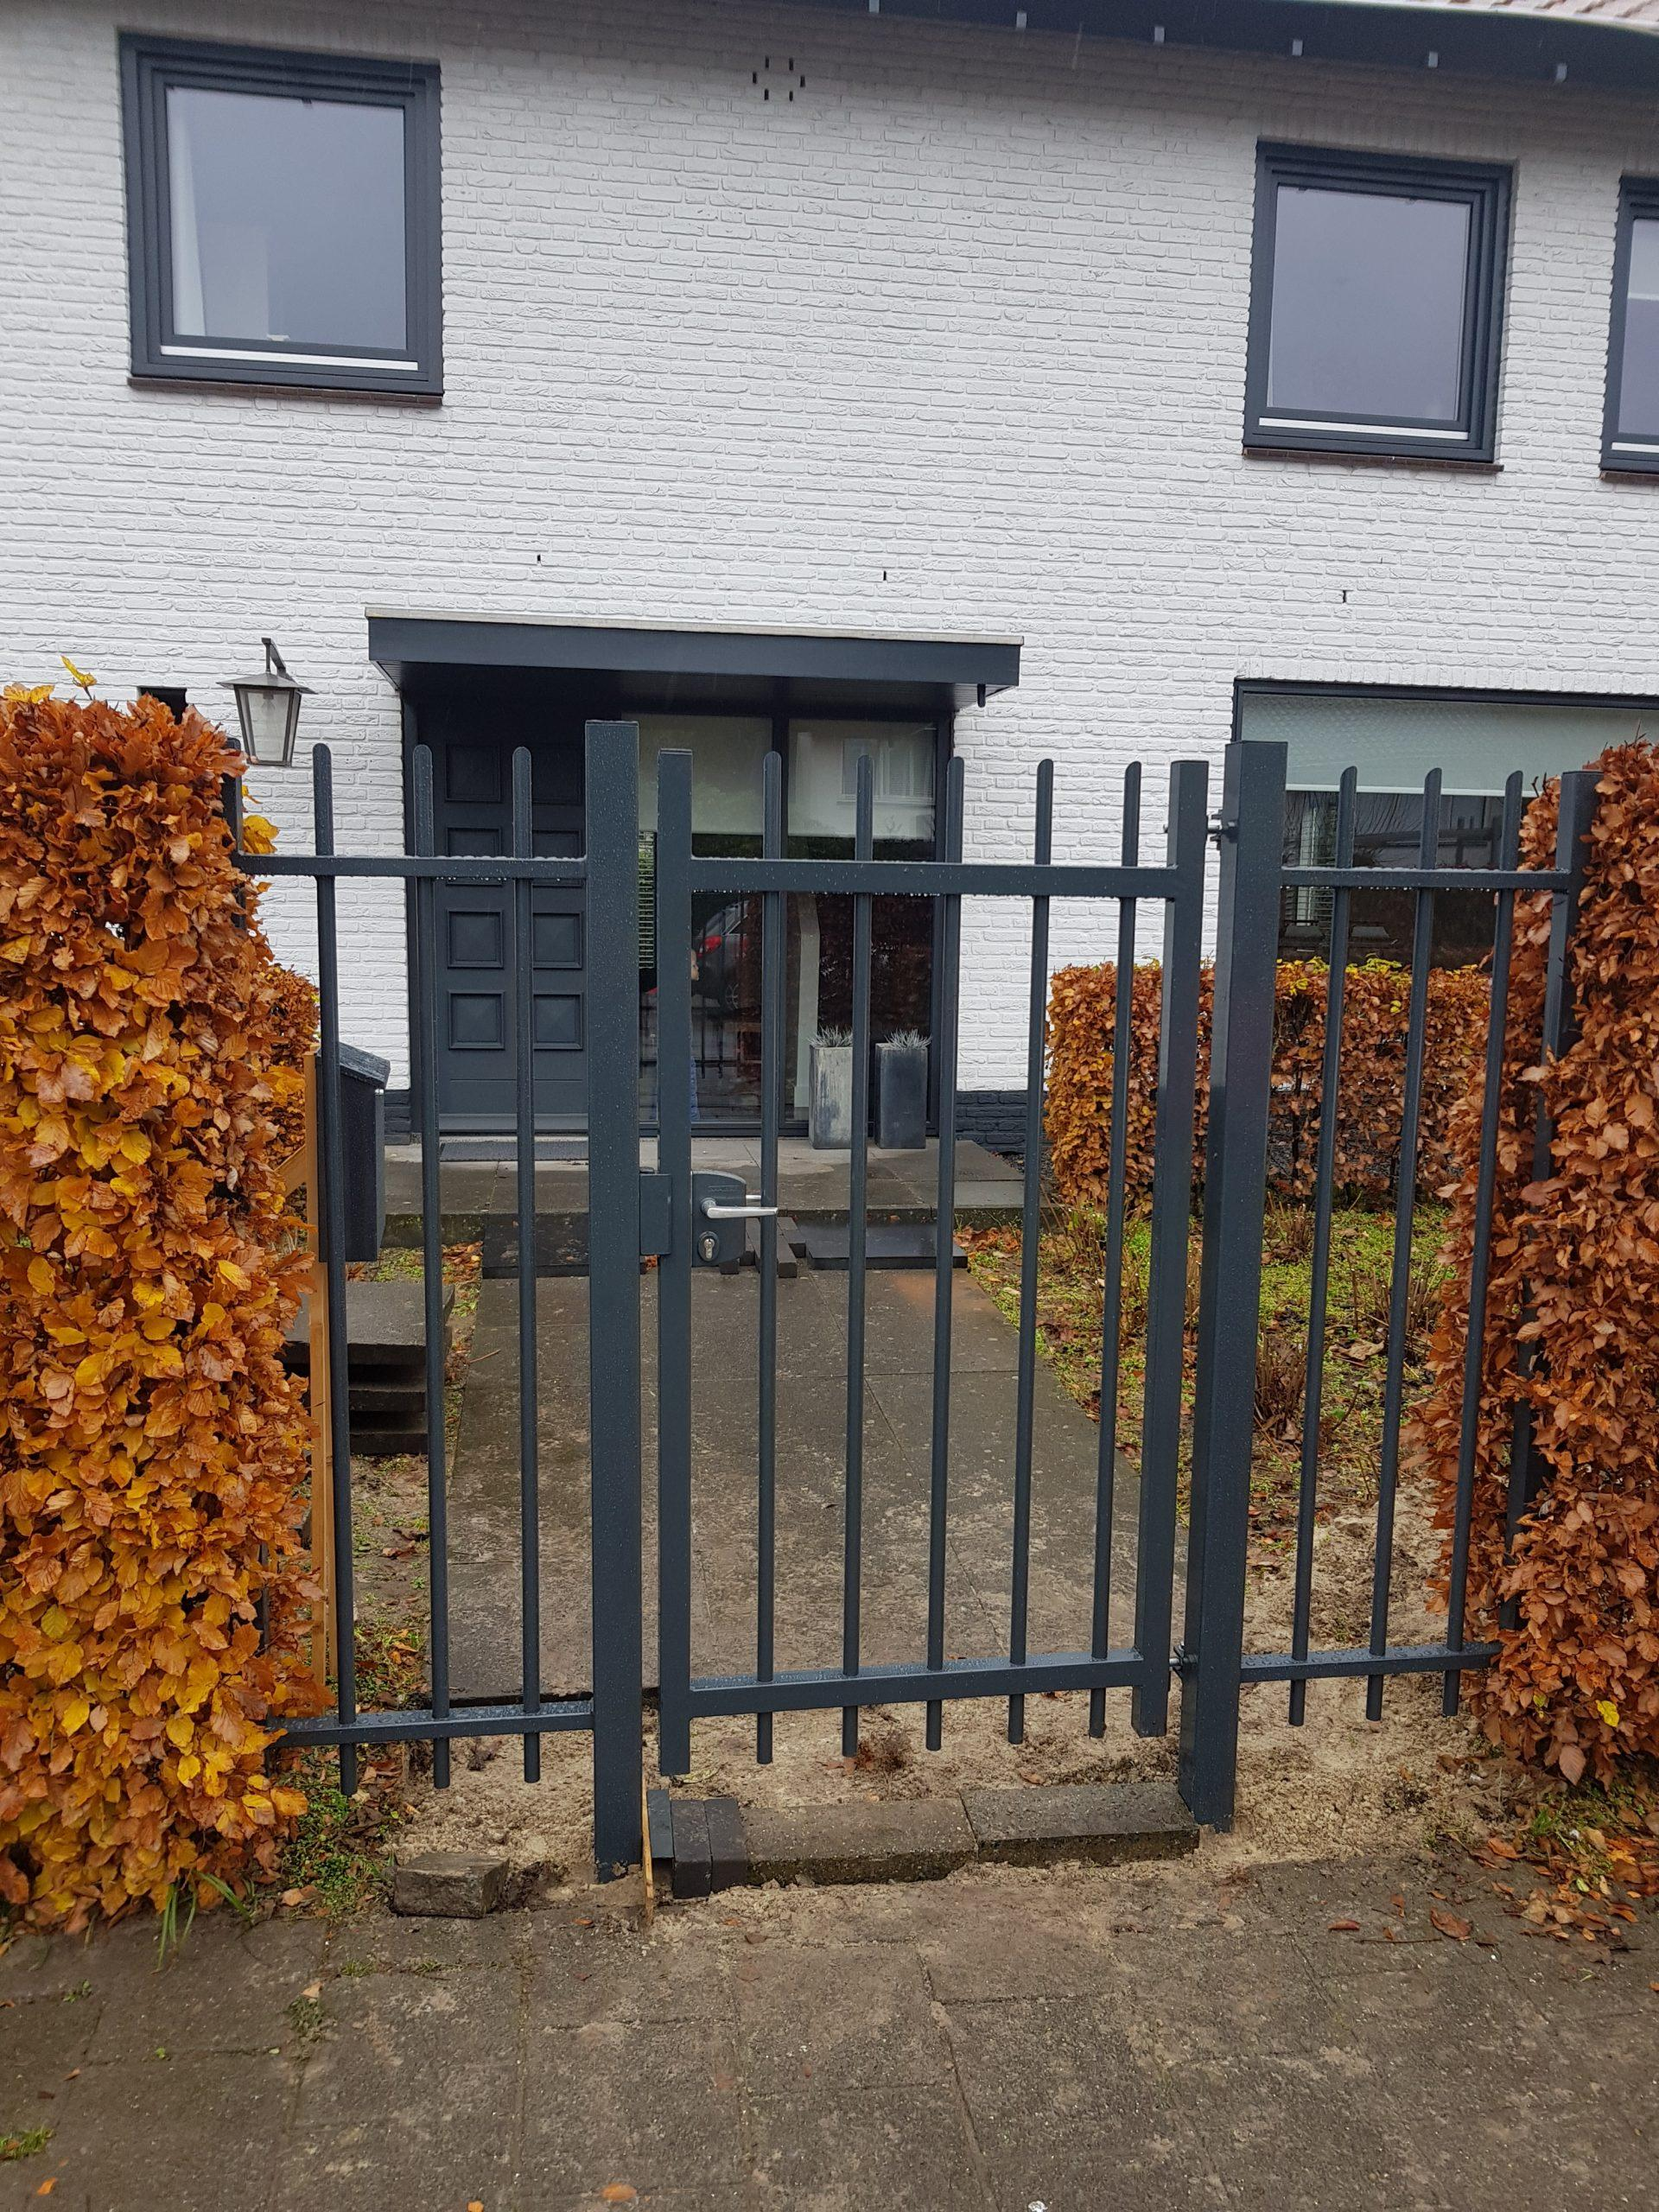obstacle: (138, 0, 1659, 2212)
